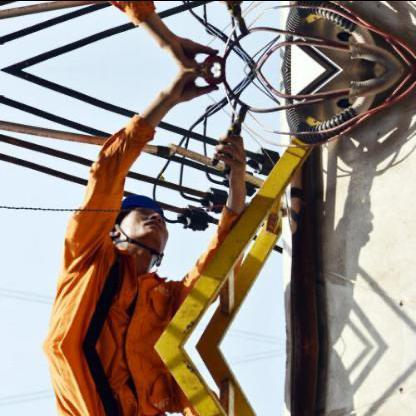Helmet: (110, 184, 174, 274)
